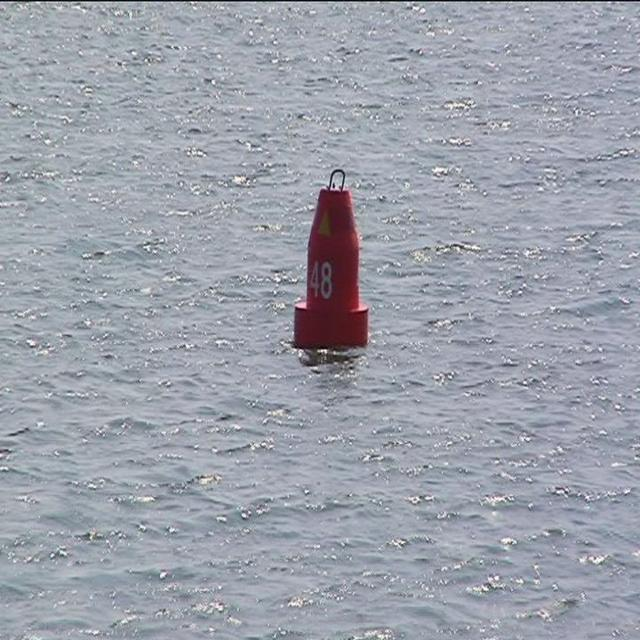Red Buoy: (294, 194, 367, 346)
